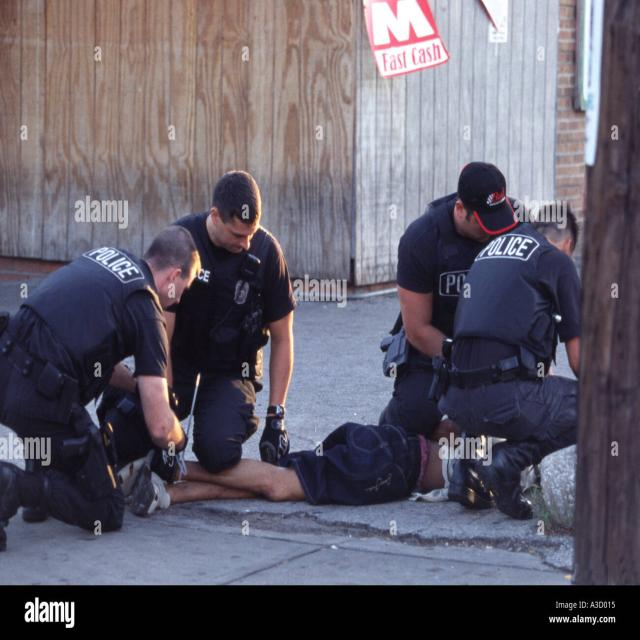police: (2, 206, 188, 576), (141, 160, 302, 485), (435, 177, 581, 527), (372, 143, 515, 463)
